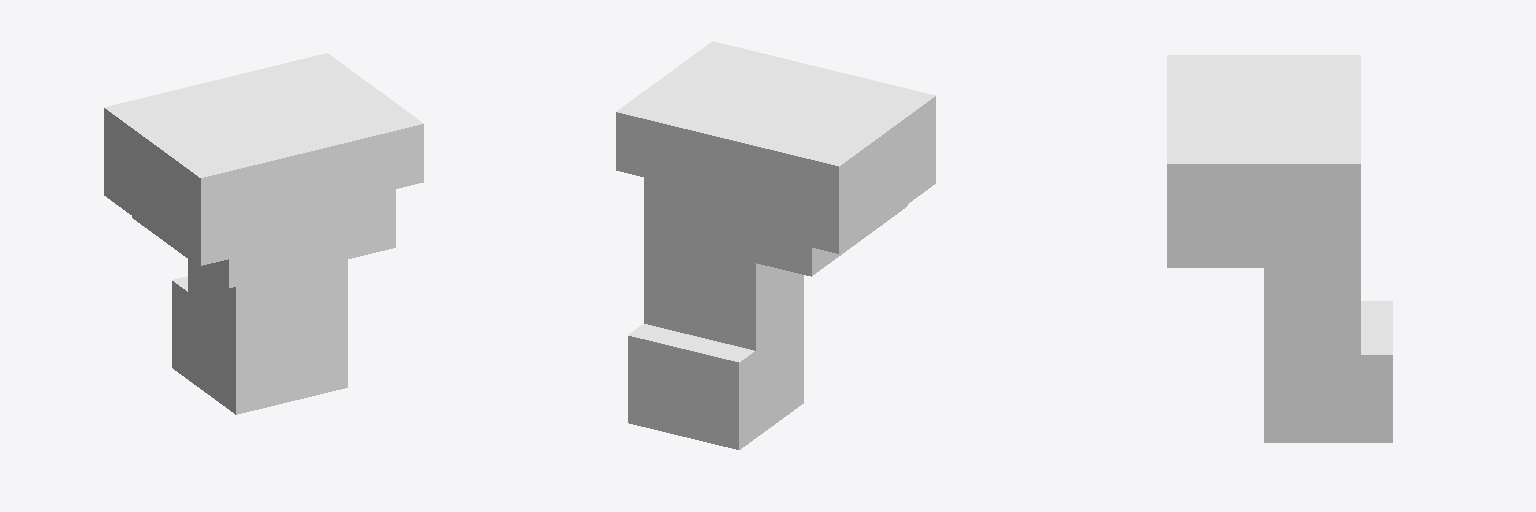
Rendered from Character1_LeftLeg.obj.
3 renders of one model, left to right at view 1: azimuth 30°, elevation 25°; view 2: azimuth 150°, elevation 25°; view 3: azimuth 270°, elevation 25°, orthographic.
Visible parts, largest first — view 1: object 1; view 2: object 1; view 3: object 1.
Boxes of the visible parts, x1=… form: object 1: x1=104, y1=53, x2=423, y2=414; object 1: x1=616, y1=41, x2=935, y2=449; object 1: x1=1167, y1=55, x2=1392, y2=442.
Size of the model in its own units: 0.8 by 1 by 0.7.